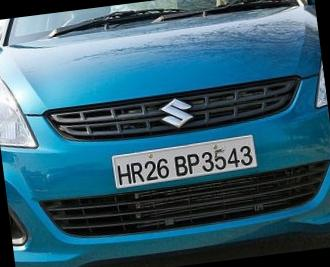plate: (102, 121, 269, 207)
